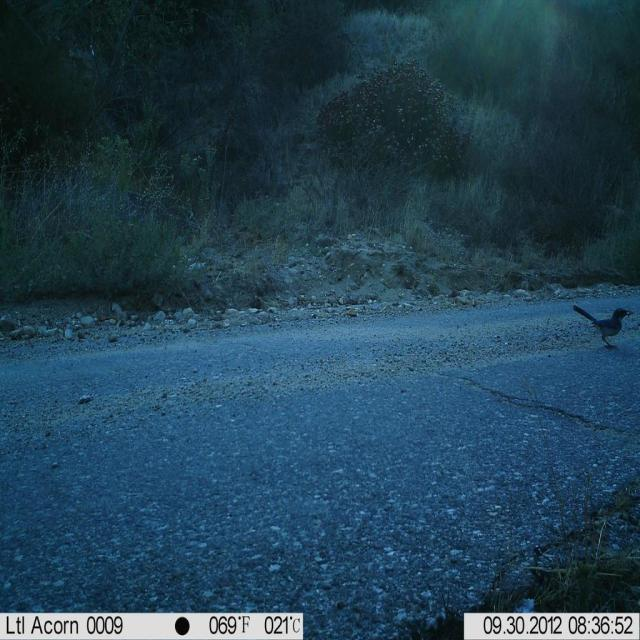bird: (571, 303, 636, 353)
